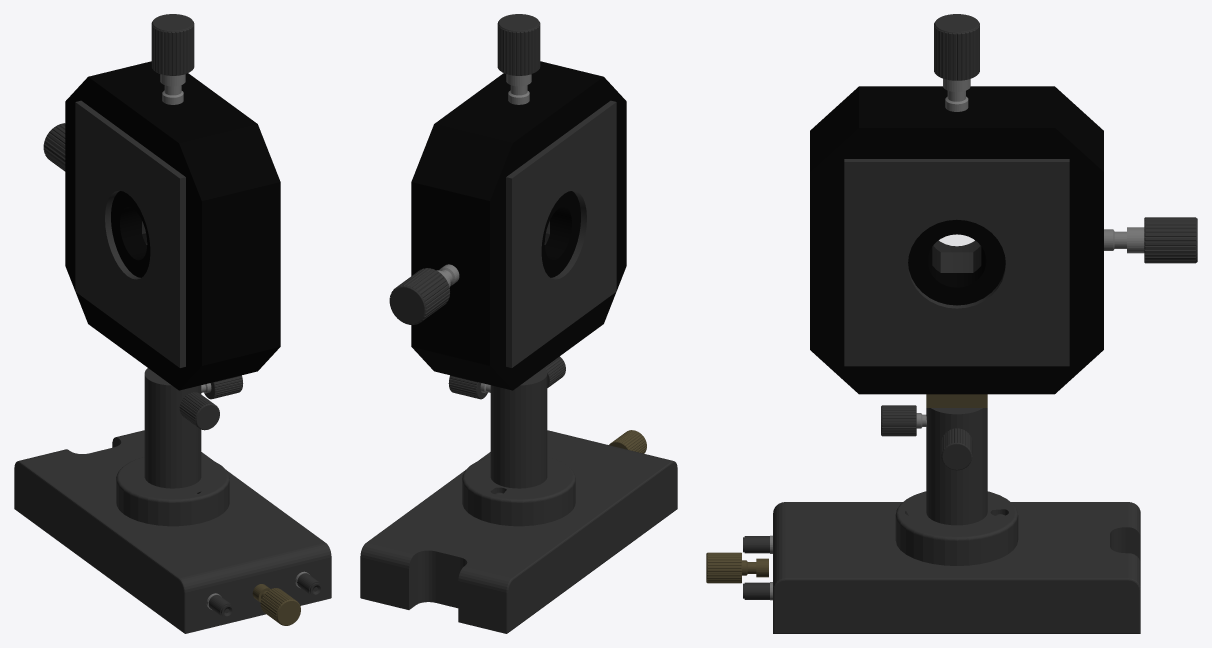
Rendered from 新晶体盒.fbx.
3 views of the same model, side by side, from view 1: azimuth 30°, elevation 25°; view 2: azimuth 150°, elevation 25°; view 3: azimuth 270°, elevation 25° (orthographic). The views are drawn at different scales.
Parts seen in each view (by area): view 1: 立方体, 滑座, 立方体.002, 支架, 大旋钮.003, 大旋钮, 大旋钮.001, 小旋扭, 大旋钮.004, 大旋钮座.003, 大旋钮.002; view 2: 立方体, 滑座, 立方体.002, 支架, 大旋钮.003, 大旋钮.004, 大旋钮座.003, 大旋钮.002, 大旋钮; view 3: 立方体, 滑座, 立方体.002, 支架, 大旋钮.003, 大旋钮.004, 立方体.001, 大旋钮.002, 大旋钮, 大旋钮.001, 小旋扭, 大旋钮座.004 (+2 smaller).
Boxes of the visible parts, x1,y1,x2,y2 form: 立方体: [65, 61, 280, 390]; 滑座: [14, 430, 331, 633]; 立方体.002: [75, 100, 185, 367]; 支架: [116, 368, 229, 526]; 大旋钮.003: [151, 14, 194, 75]; 大旋钮: [260, 588, 300, 625]; 大旋钮.001: [179, 392, 219, 430]; 小旋扭: [208, 573, 322, 618]; 大旋钮.004: [43, 123, 65, 171]; 大旋钮座.003: [160, 74, 185, 104]; 大旋钮.002: [204, 375, 243, 399]; 立方体: [411, 61, 626, 390]; 滑座: [360, 430, 677, 633]; 立方体.002: [506, 100, 616, 367]; 支架: [462, 368, 575, 526]; 大旋钮.003: [497, 14, 540, 75]; 大旋钮.004: [389, 268, 449, 324]; 大旋钮座.003: [506, 74, 531, 104]; 大旋钮.002: [448, 375, 487, 399]; 大旋钮: [609, 430, 646, 453]; 立方体: [810, 86, 1103, 394]; 滑座: [773, 502, 1140, 633]; 立方体.002: [844, 159, 1069, 366]; 支架: [895, 408, 1018, 565]; 大旋钮.003: [934, 14, 979, 80]; 大旋钮.004: [1144, 217, 1197, 263]; 立方体.001: [934, 235, 979, 272]; 大旋钮.002: [941, 428, 972, 470]; 大旋钮: [706, 552, 741, 583]; 大旋钮.001: [881, 405, 916, 436]; 小旋扭: [743, 536, 769, 599]; 大旋钮座.004: [1104, 227, 1144, 253].
Size of the model in its own units: 60 by 206 by 160.
